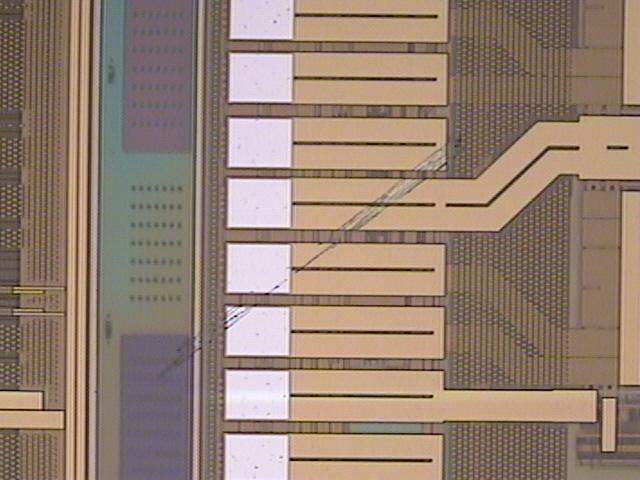SCRATCH: (149, 124, 492, 385)
